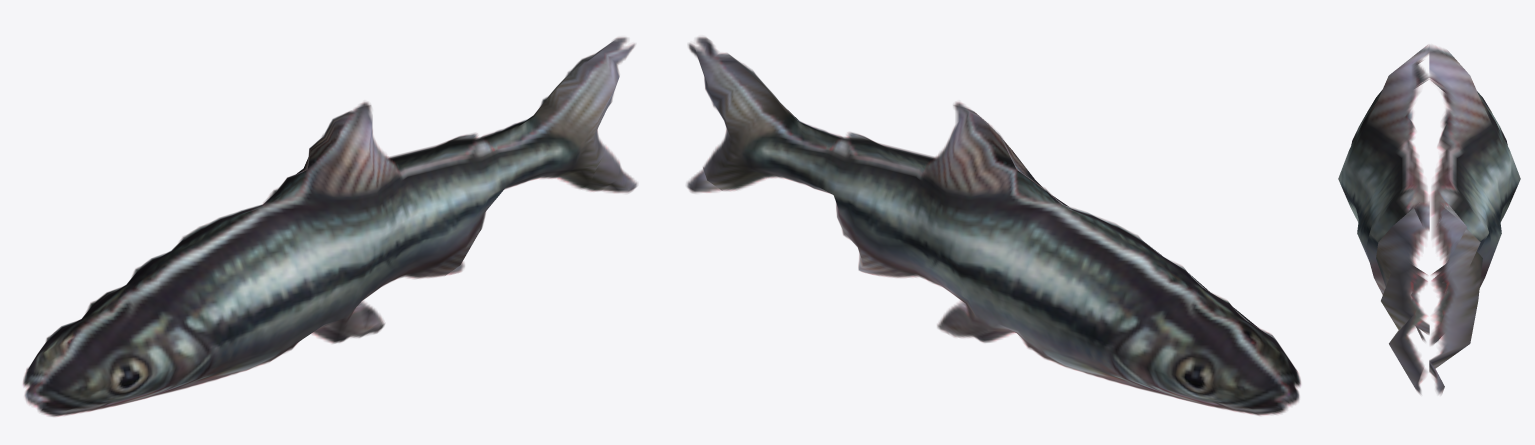
Rendered from fish_minnow.glb.
3 renders of one model, left to right at view 1: azimuth 30°, elevation 25°; view 2: azimuth 150°, elevation 25°; view 3: azimuth 270°, elevation 25°, orthographic. The views are drawn at different scales.
Visible parts, largest first — view 1: fish_minnow; view 2: fish_minnow; view 3: fish_minnow.
Part boxes in pixels (box(x1,y1,x2,y2)): fish_minnow: box(23, 37, 637, 416); fish_minnow: box(686, 37, 1300, 415); fish_minnow: box(1338, 44, 1520, 394).
Size of the model in its own units: 0.3 by 0.1188 by 0.06.
1 material, 1 textured.
